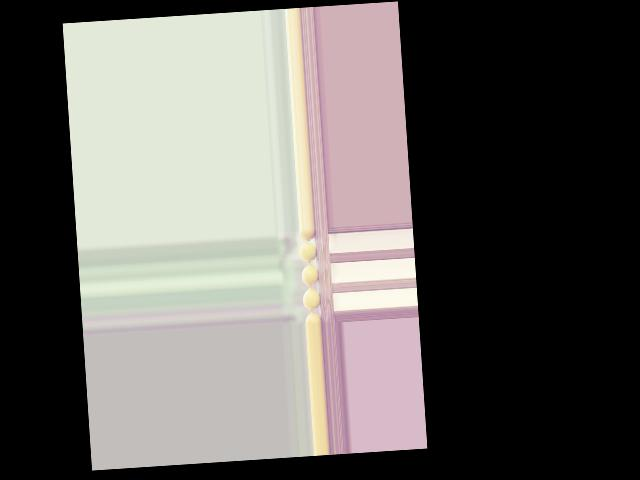lemon: (304, 312, 320, 324)
